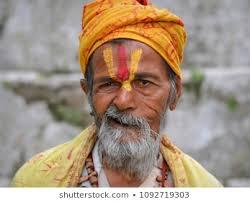strokeMouthMid: (106, 111, 143, 134)
